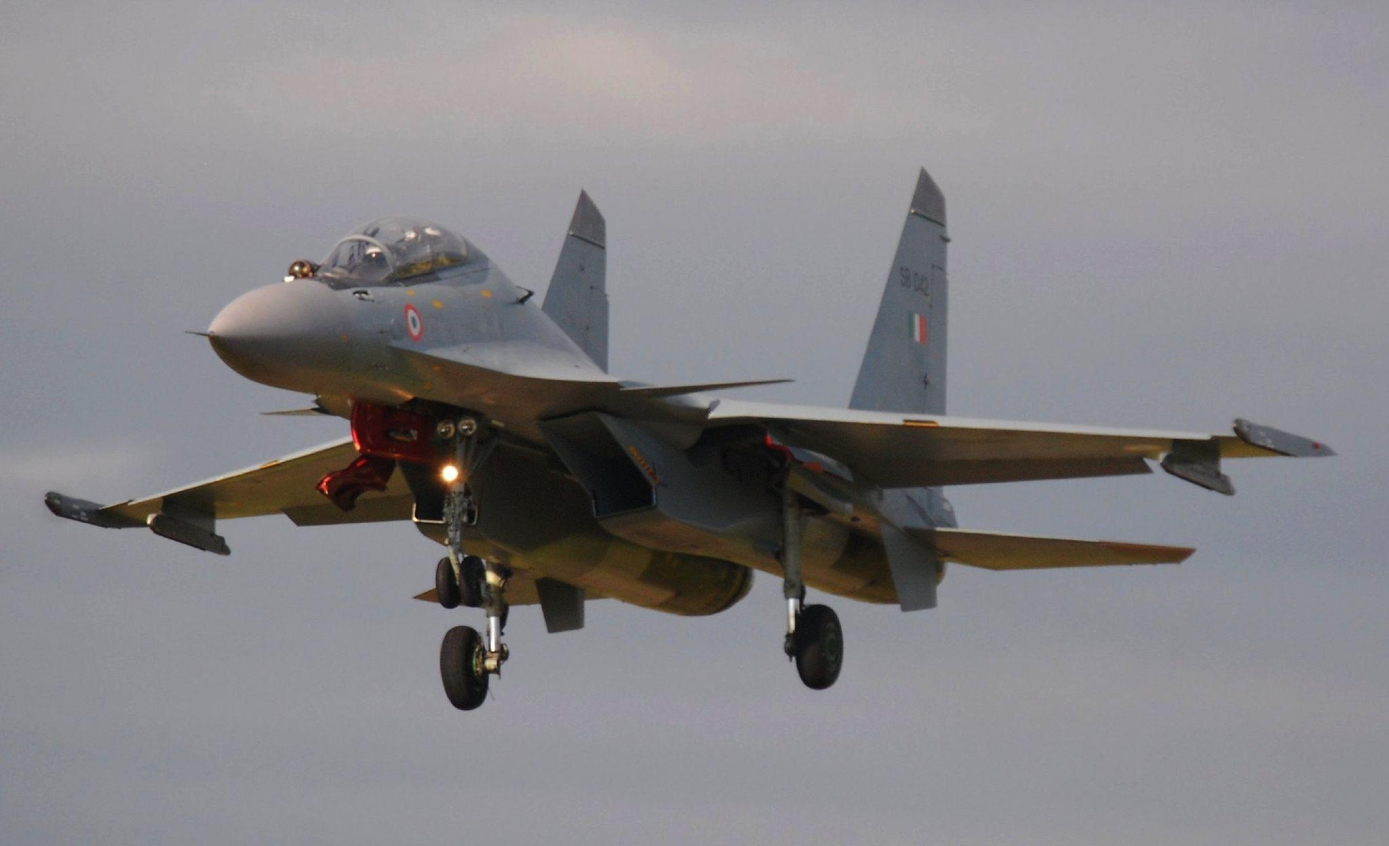aircraft: (28, 168, 1355, 709)
